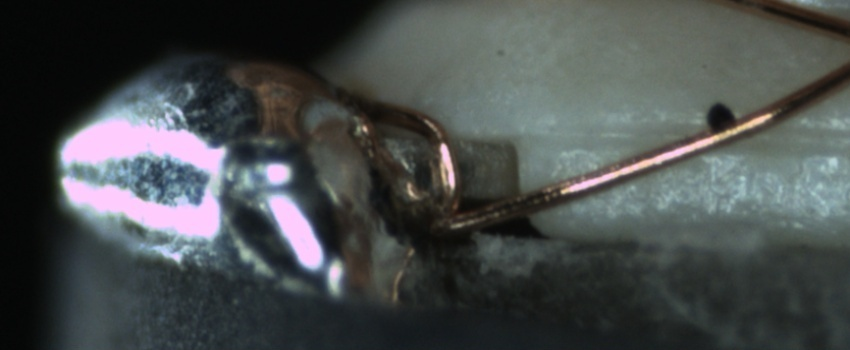DL: (542, 104, 847, 169)
TE: (356, 90, 465, 222)
